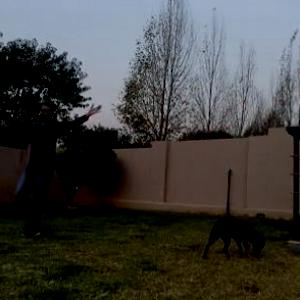takeoff: (0, 99, 120, 243)
